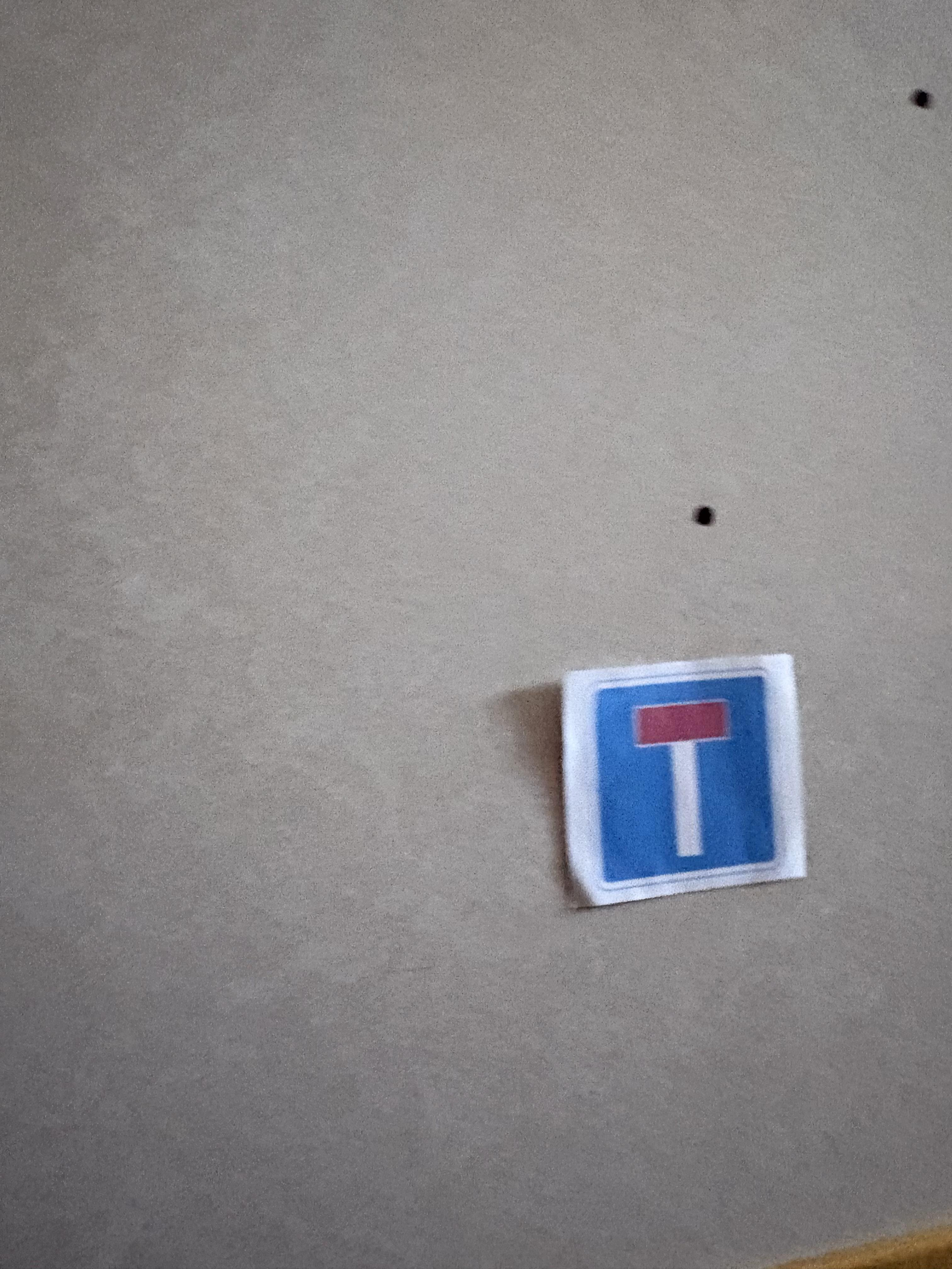Dead End: (564, 651, 812, 910)
